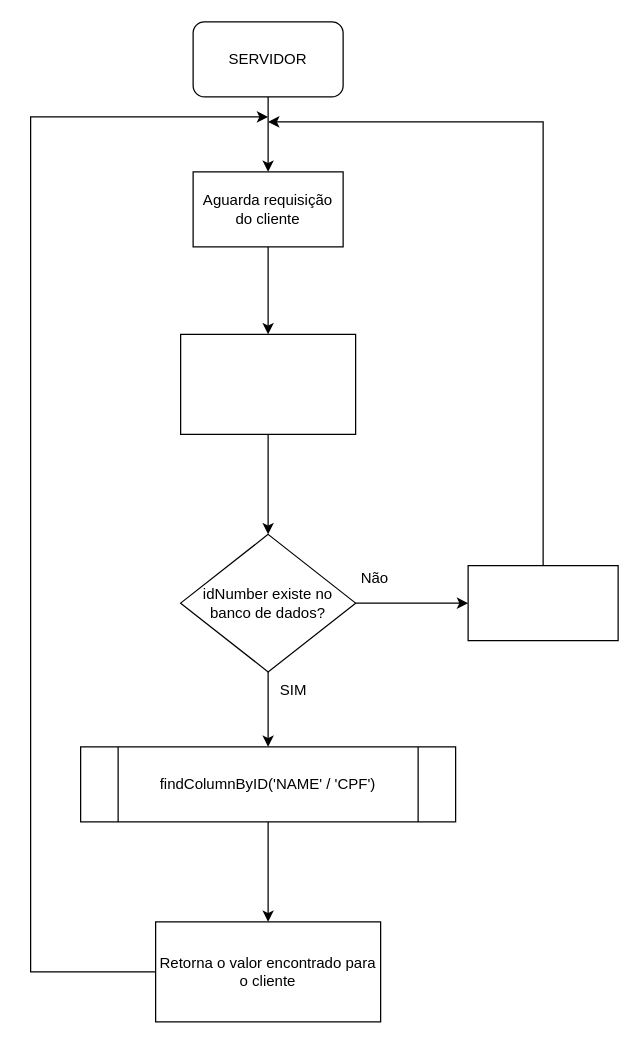
Some shapes in this 640 by 1044 pixel diagram are drawn without their labels. Here are the shapes that lost their labels. From the top down, the centre of each, then its label:
At point (267, 383): "Recebe informações do cliente column e idNumber".
At point (542, 602): "Retorna para o cliente: 'ID desconhecido'".
